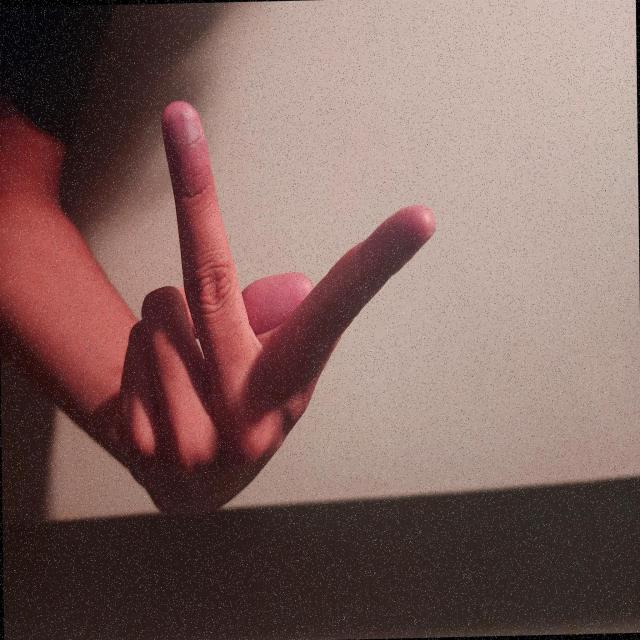K: (229, 257, 554, 640)
